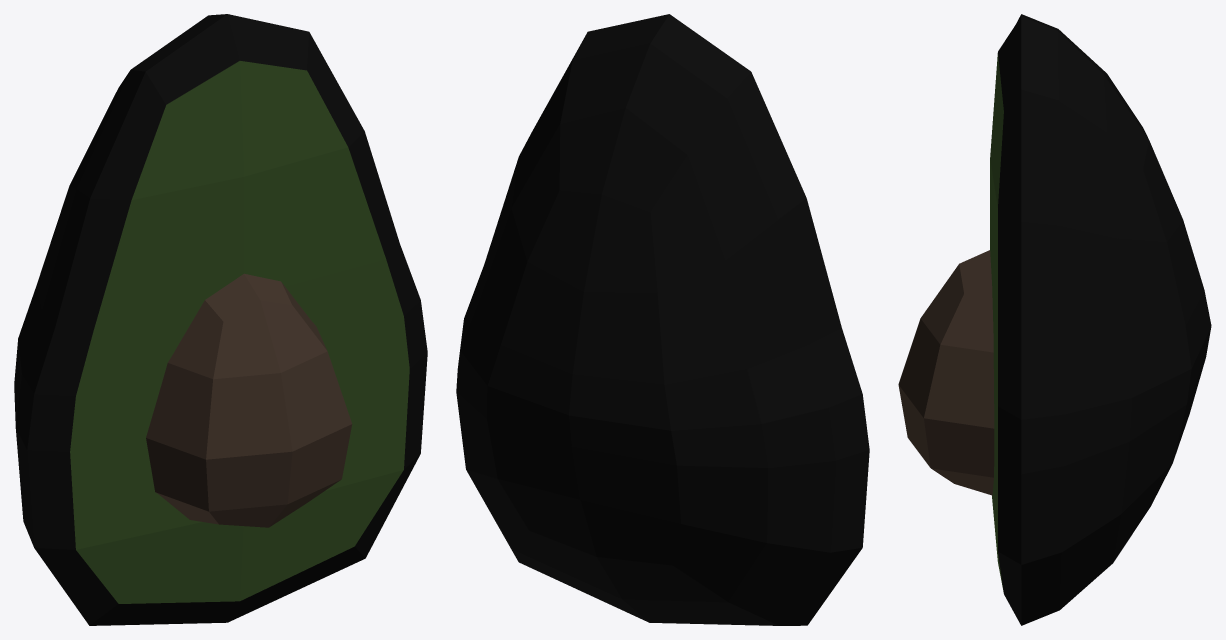
File: Avocado.obj
3 views of the same model, side by side, from view 1: azimuth 30°, elevation 25°; view 2: azimuth 150°, elevation 25°; view 3: azimuth 270°, elevation 25° (orthographic). The views are drawn at different scales.
Visible parts, largest first — view 1: Avocado_Cube.080; view 2: Avocado_Cube.080; view 3: Avocado_Cube.080.
Boxes of the visible parts, <box> form: Avocado_Cube.080: <box>14,14,427,625</box>; Avocado_Cube.080: <box>456,14,869,625</box>; Avocado_Cube.080: <box>898,14,1211,625</box>.
Bounding box in the file's own units: 0.7531 × 1.09 × 0.5398.
